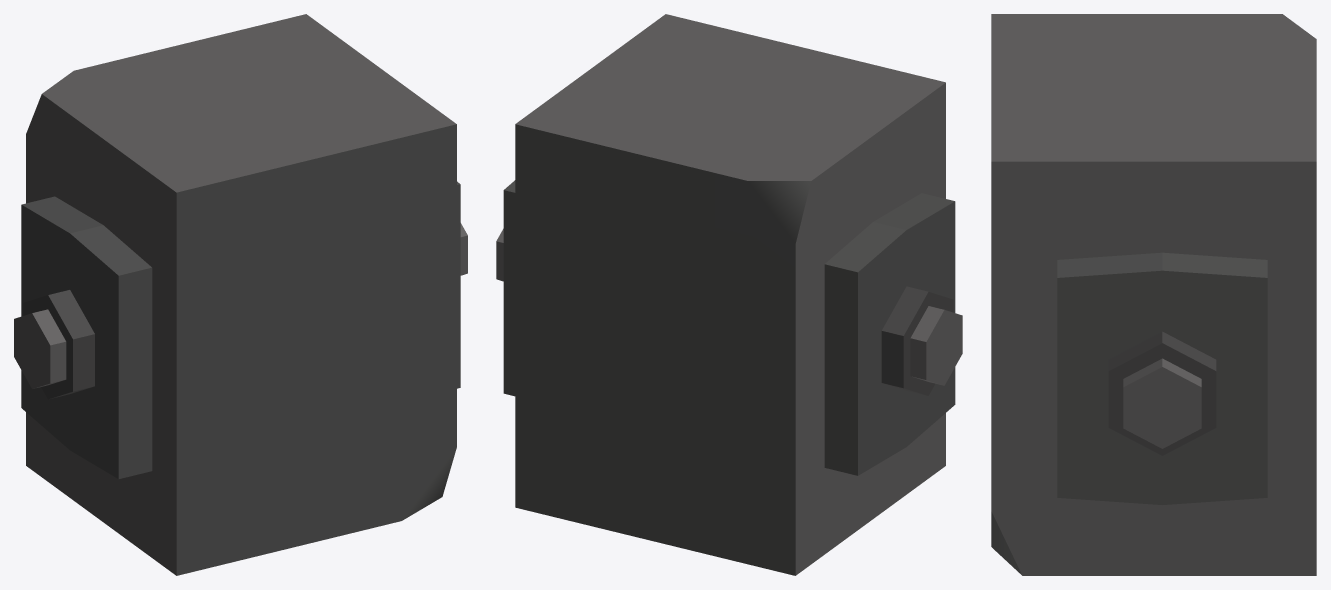
File: SM_Env_Basement_Support_Beam_Bolt_01.glb
The picture shows the model from 3 angles, left to right: view 1: azimuth 30°, elevation 25°; view 2: azimuth 150°, elevation 25°; view 3: azimuth 270°, elevation 25°; orthographic projection. The views are drawn at different scales.
Visible parts, largest first — view 1: SM_Env_Basement_Support_Beam_Bolt_01; view 2: SM_Env_Basement_Support_Beam_Bolt_01; view 3: SM_Env_Basement_Support_Beam_Bolt_01.
Boxes of the visible parts, bbox=[...] form: SM_Env_Basement_Support_Beam_Bolt_01: bbox=[14, 14, 467, 575]; SM_Env_Basement_Support_Beam_Bolt_01: bbox=[496, 14, 962, 575]; SM_Env_Basement_Support_Beam_Bolt_01: bbox=[991, 14, 1316, 575].
Size of the model in its own units: 0.0061 by 0.00527 by 0.00375.
Materials: 1 (1 with a texture image).
